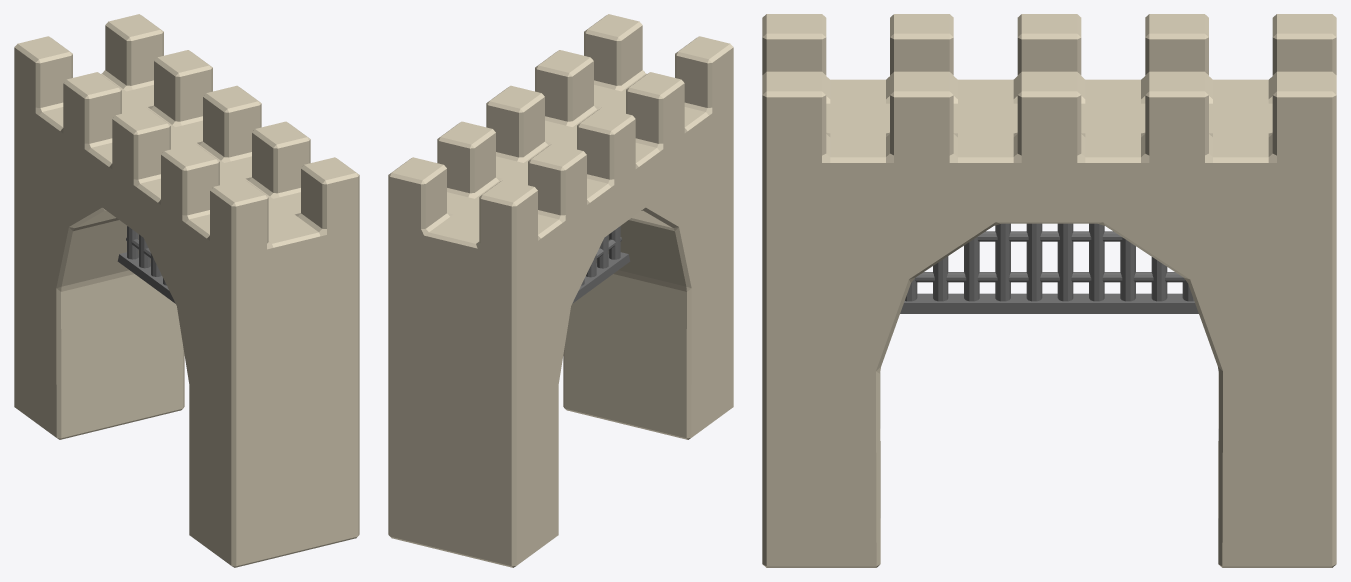
File: GateWall.fbx
3 views of the same model, side by side, from view 1: azimuth 30°, elevation 25°; view 2: azimuth 150°, elevation 25°; view 3: azimuth 270°, elevation 25° (orthographic). The views are drawn at different scales.
Visible parts, largest first — view 1: GateWall.001, Cube.001, VertGate.001; view 2: GateWall.001, Cube.001, VertGate.001; view 3: GateWall.001, VertGate.001, Cube.001, HorizGate.001.
Boxes of the visible parts, box(x1,y1,x2,y2) form: GateWall.001: box(14, 14, 359, 567); Cube.001: box(117, 252, 175, 303); VertGate.001: box(127, 226, 166, 285); GateWall.001: box(388, 14, 733, 567); Cube.001: box(572, 252, 630, 303); VertGate.001: box(581, 226, 620, 285); GateWall.001: box(762, 14, 1336, 567); VertGate.001: box(905, 223, 1193, 301); Cube.001: box(900, 293, 1198, 313); HorizGate.001: box(915, 231, 1184, 282).
Size of the model in its own units: 236 by 644 by 703.
